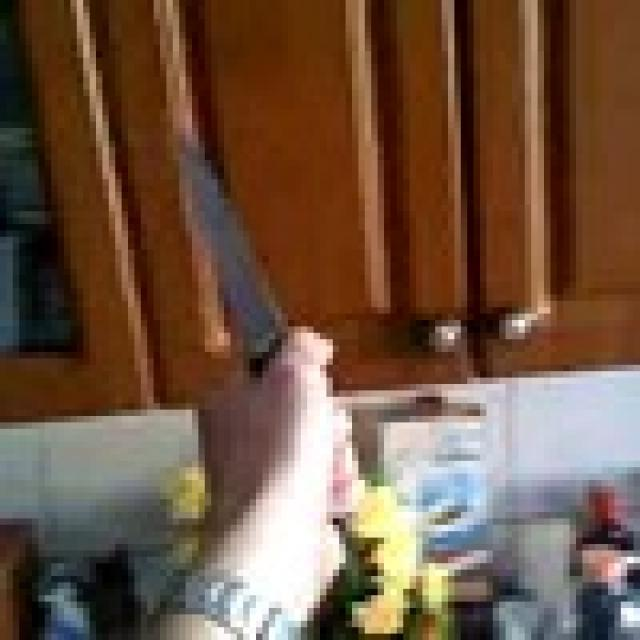Knife: (179, 147, 288, 371)
